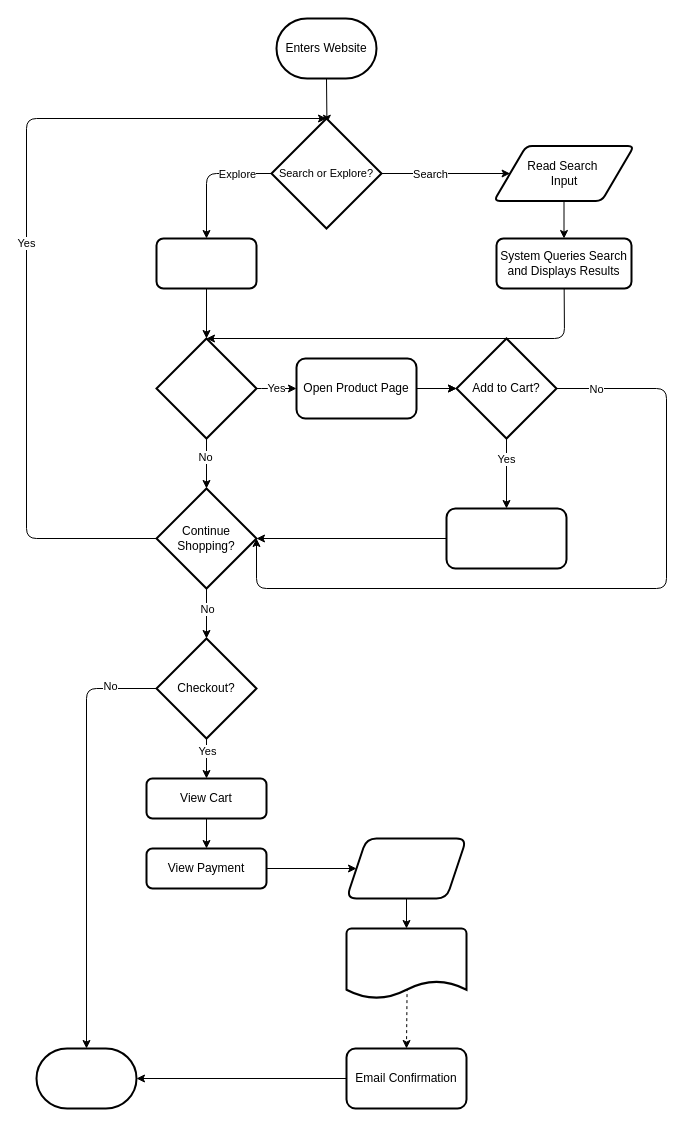
Some shapes in this 692 by 1126 pixel diagram are drawn without their labels. Each missing label, with the centre of its shape:
"Add to Cart Confirmation" belongs at (506,538).
"Explore Home Page" belongs at (206,263).
"Leave Website" belongs at (86,1078).
"Order Confirmation" belongs at (406,963).
"Read Payment Information" belongs at (406,868).
"View Product Page?" belongs at (206,388).
